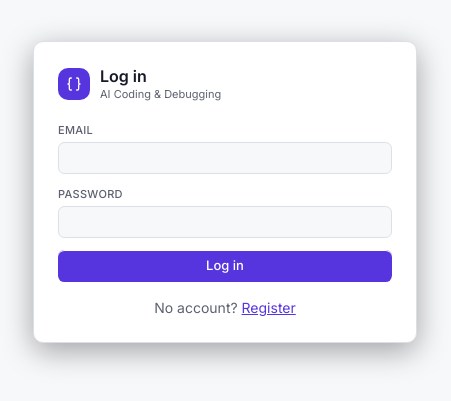
Test: Auth form › shows the server's message on a failed login and stays on the page
The width and height of the screenshot is (451, 401).
Type "a@example.com" into the field labelled "Email". click: (225, 158)
box: [58,142,392,174]
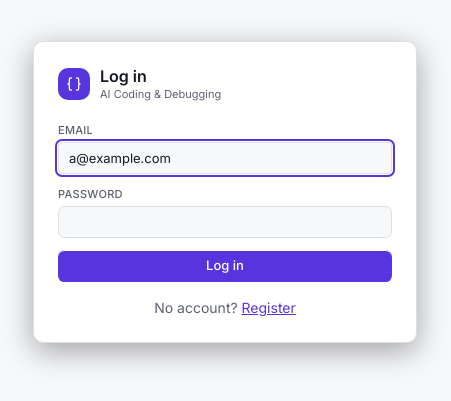
Type "wrong-pass-1" into the password field labelled "Password". click: (225, 222)
box: [58,206,392,238]
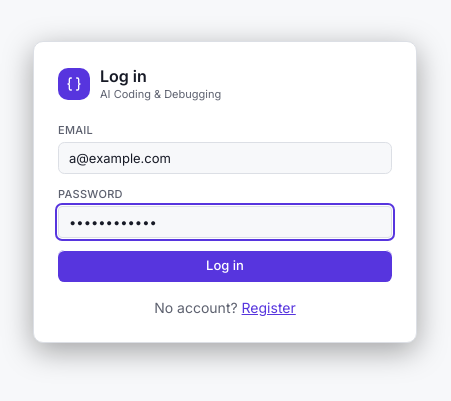
Click the button "Log in". click: (225, 266)
box: [58,250,392,282]
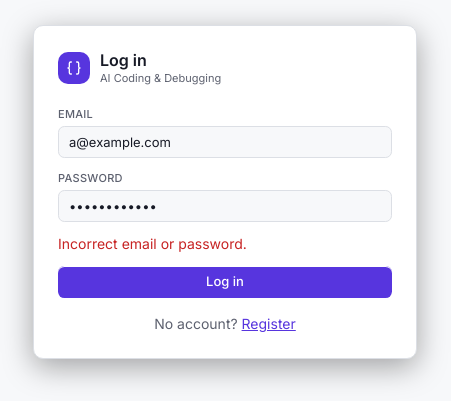
Expected: the text "Incorrect email or password." is shown, [58,235,247,252]
